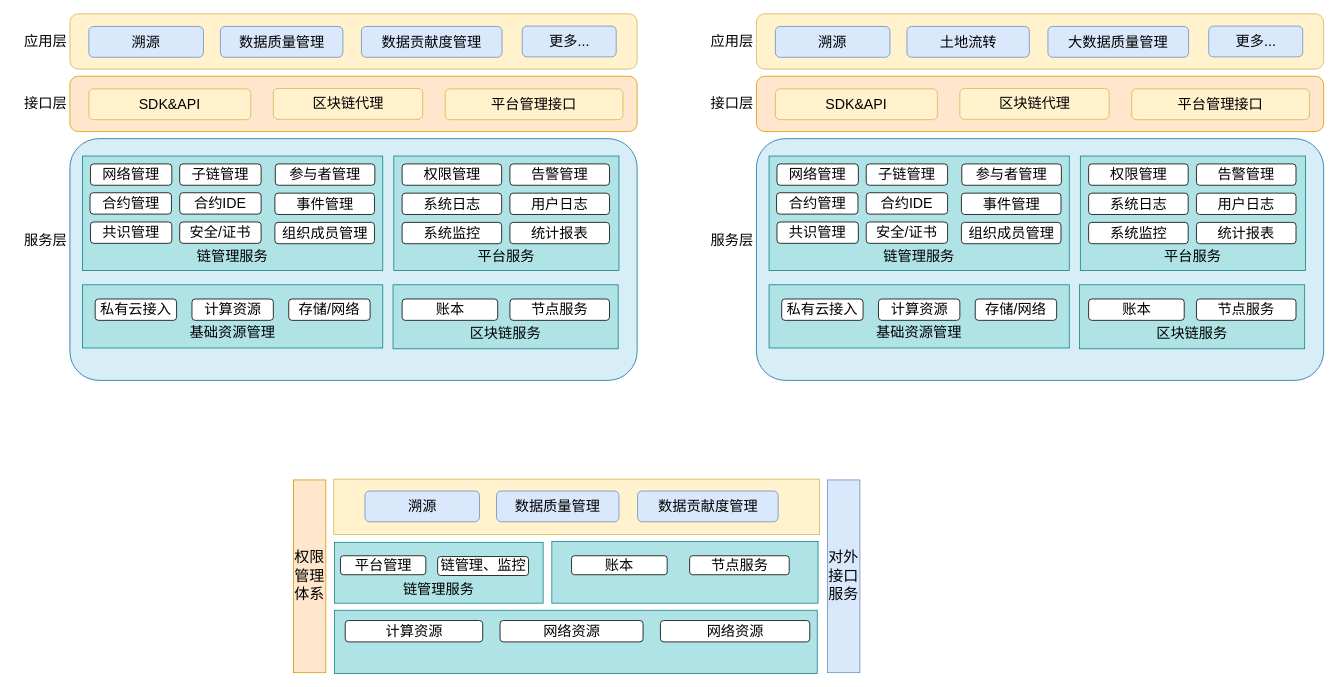
Image size: 1337x687. Some labels were removed from this diagram. The box of each missing label's shape, as (x1, y1, x2, y2) in pixels:
基础资源: (334, 609, 817, 673)
多机构联盟链: (551, 541, 818, 603)
